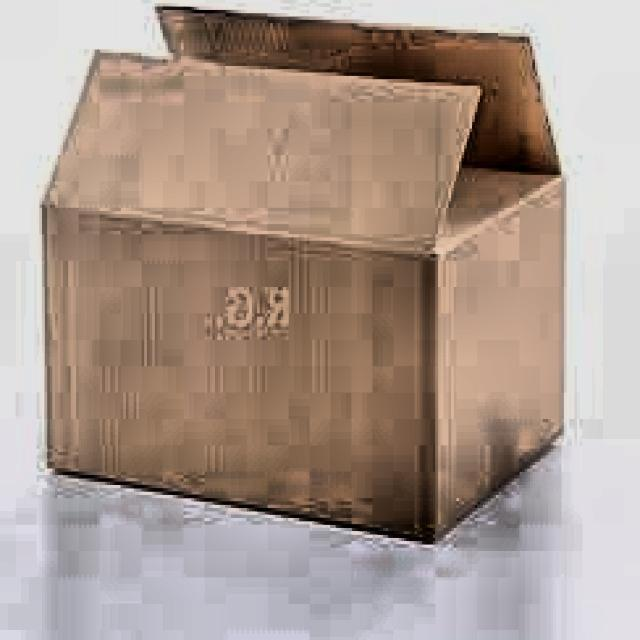cardboard: (43, 0, 567, 544)
